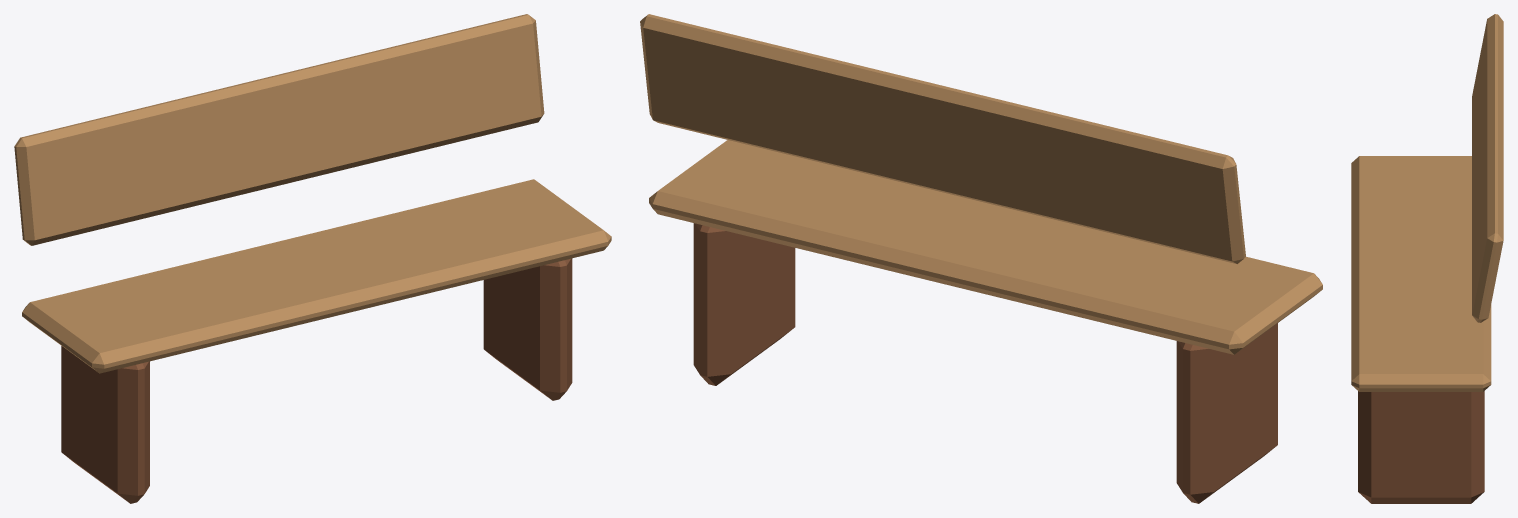
File: bench.glb
The picture shows the model from 3 angles, left to right: view 1: azimuth 30°, elevation 25°; view 2: azimuth 150°, elevation 25°; view 3: azimuth 270°, elevation 25°; orthographic projection. The views are drawn at different scales.
Parts seen in each view (by area): view 1: body; view 2: body; view 3: body.
Part boxes in pixels (x1=…): body: x1=14, y1=14, x2=611, y2=503; body: x1=640, y1=14, x2=1322, y2=503; body: x1=1351, y1=14, x2=1503, y2=503.
Bounding box in the file's own units: 1.6 × 0.9536 × 0.4572.
